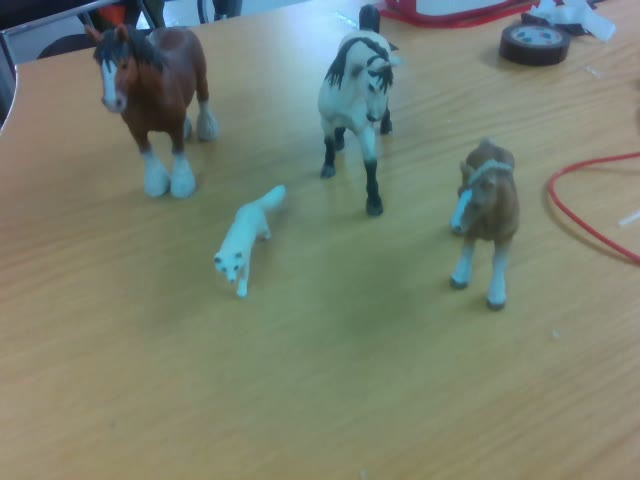toy: (86, 28, 217, 199), (321, 6, 402, 218), (449, 135, 519, 312), (213, 183, 286, 297)
